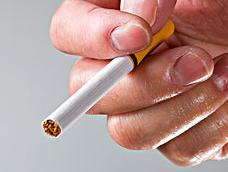smoke: (39, 56, 129, 140)
